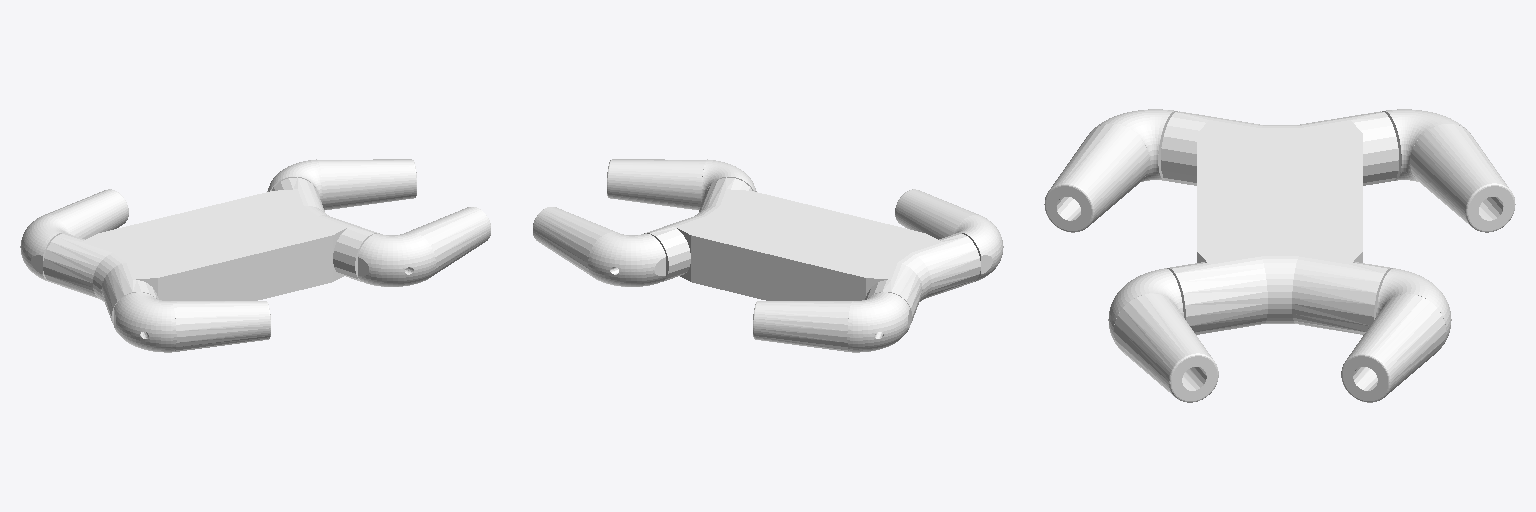
The robot description file, URDF, robot "21_degree":
<?xml version="1.0" encoding="utf-8"?>
<!-- This URDF was automatically created by SolidWorks to URDF Exporter! Originally created by [author] ([email redacted]) 
     Commit Version: 1.5.1-0-g916b5db  Build Version: 1.5.7152.31018
     For more information, please see http://wiki.ros.org/sw_urdf_exporter -->
<robot
  name="21_degree">
  <link
    name="base_link">
    <inertial>
      <origin
        xyz="2.0817E-17 4.4852E-08 -1.2476E-08"
        rpy="0 0 0" />
      <mass
        value="2.942" />
      <inertia
        ixx="0.0097283"
        ixy="1.9011E-09"
        ixz="-1.5412E-10"
        iyy="0.0458556"
        iyz="6.6388E-18"
        izz="0.0531702" />
    </inertial>
    <visual>
      <origin
        xyz="0 0 0"
        rpy="0 0 0" />
      <geometry>
        <mesh
          filename="package://21_degree/meshes/base_link.STL" />
      </geometry>
      <material
        name="">
        <color
          rgba="1 1 1 1" />
      </material>
    </visual>
    <collision>
      <origin
        xyz="0 0 0"
        rpy="0 0 0" />
      <geometry>
        <mesh
          filename="package://21_degree/meshes/base_link.STL" />
      </geometry>
    </collision>
  </link>
  <link
    name="left_front_link">
    <inertial>
      <origin
        xyz="-9.6449E-08 0.065963 -0.013251"
        rpy="0 0 0" />
      <mass
        value="0.092" />
      <inertia
        ixx="0.0002604"
        ixy="2.989E-10"
        ixz="7.8444E-10"
        iyy="0.0000638"
        iyz="-0.0000517"
        izz="0.0002464" />
    </inertial>
    <visual>
      <origin
        xyz="0 0 0"
        rpy="0 0 0" />
      <geometry>
        <mesh
          filename="package://21_degree/meshes/left_front_link.STL" />
      </geometry>
      <material
        name="">
        <color
          rgba="1 1 1 1" />
      </material>
    </visual>
    <collision>
      <origin
        xyz="0 0 0"
        rpy="0 0 0" />
      <geometry>
        <mesh
          filename="package://21_degree/meshes/left_front_link.STL" />
      </geometry>
    </collision>
  </link>
  <joint
    name="left_front_leg"
    type="continuous">
    <origin
      xyz="0.16691 0.096159 0"
      rpy="1.5708 1.5708 0" />
    <parent
      link="base_link" />
    <child
      link="left_front_link" />
    <axis
      xyz="0 0.35837 -0.93358" />
    <limit
      effort="5"
      velocity="487" />
  </joint>
  <link
    name="right_front_link">
    <inertial>
      <origin
        xyz="9.6449E-08 0.065963 0.013251"
        rpy="0 0 0" />
      <mass
        value="0.092" />
      <inertia
        ixx="0.0002604"
        ixy="-2.989E-10"
        ixz="7.8444E-10"
        iyy="0.0000638"
        iyz="0.0000517"
        izz="0.0002464" />
    </inertial>
    <visual>
      <origin
        xyz="0 0 0"
        rpy="0 0 0" />
      <geometry>
        <mesh
          filename="package://21_degree/meshes/right_front_link.STL" />
      </geometry>
      <material
        name="">
        <color
          rgba="1 1 1 1" />
      </material>
    </visual>
    <collision>
      <origin
        xyz="0 0 0"
        rpy="0 0 0" />
      <geometry>
        <mesh
          filename="package://21_degree/meshes/right_front_link.STL" />
      </geometry>
    </collision>
  </link>
  <joint
    name="right_front_leg"
    type="continuous">
    <origin
      xyz="0.16691 -0.096159 0"
      rpy="1.5708 1.5708 0" />
    <parent
      link="base_link" />
    <child
      link="right_front_link" />
    <axis
      xyz="0 0.35837 0.93358" />
    <limit
      effort="5"
      velocity="487" />
  </joint>
  <link
    name="right_back_link">
    <inertial>
      <origin
        xyz="8.5928E-08 0.056834 0.03601"
        rpy="0 0 0" />
      <mass
        value="0.092" />
      <inertia
        ixx="0.0002604"
        ixy="-4.8774E-10"
        ixz="5.9078E-10"
        iyy="0.0000526"
        iyz="-2.27E-05"
        izz="0.0002575" />
    </inertial>
    <visual>
      <origin
        xyz="0 0 0"
        rpy="0 0 0" />
      <geometry>
        <mesh
          filename="package://21_degree/meshes/right_back_link.STL" />
      </geometry>
      <material
        name="">
        <color
          rgba="1 1 1 1" />
      </material>
    </visual>
    <collision>
      <origin
        xyz="0 0 0"
        rpy="0 0 0" />
      <geometry>
        <mesh
          filename="package://21_degree/meshes/right_back_link.STL" />
      </geometry>
    </collision>
  </link>
  <joint
    name="right_back_leg"
    type="continuous">
    <origin
      xyz="-0.16691 -0.096159 0"
      rpy="1.9373 1.5708 0" />
    <parent
      link="base_link" />
    <child
      link="right_back_link" />
    <axis
      xyz="0 0 1" />
    <limit
      effort="5"
      velocity="487" />
  </joint>
  <link
    name="left_back_link">
    <inertial>
      <origin
        xyz="-8.5928E-08 0.040154 -0.053986"
        rpy="0 0 0" />
      <mass
        value="0.092" />
      <inertia
        ixx="0.0002604"
        ixy="6.6706E-10"
        ixz="3.7675E-10"
        iyy="0.0000941"
        iyz="0.0000854"
        izz="0.0002160" />
    </inertial>
    <visual>
      <origin
        xyz="0 0 0"
        rpy="0 0 0" />
      <geometry>
        <mesh
          filename="package://21_degree/meshes/left_back_link.STL" />
      </geometry>
      <material
        name="">
        <color
          rgba="1 1 1 1" />
      </material>
    </visual>
    <collision>
      <origin
        xyz="0 0 0"
        rpy="0 0 0" />
      <geometry>
        <mesh
          filename="package://21_degree/meshes/left_back_link.STL" />
      </geometry>
    </collision>
  </link>
  <joint
    name="left_back_leg"
    type="continuous">
    <origin
      xyz="-0.16691 0.096159 0"
      rpy="1.5708 1.5708 0" />
    <parent
      link="base_link" />
    <child
      link="left_back_link" />
    <axis
      xyz="0 -0.35837 -0.93358" />
    <limit
      effort="5"
      velocity="487" />
  </joint>
</robot>

--- What the picture shows (computed from the rendered views, not written in the file) ---
The picture shows the robot from 3 angles, left to right: view 1: azimuth 30°, elevation 25°; view 2: azimuth 150°, elevation 25°; view 3: azimuth 270°, elevation 25°; orthographic projection.
Robot: 21_degree — 5 links, 4 joints (4 continuous); root link base_link; default pose: all joints at 0.
Links seen in each view (by area): view 1: base_link, right_back_link, right_front_link, left_front_link, left_back_link; view 2: base_link, left_back_link, left_front_link, right_front_link, right_back_link; view 3: base_link, left_back_link, right_back_link, left_front_link, right_front_link.
Link boxes in pixels (x1,y1,x2,y2): base_link: (43, 177, 379, 324); right_back_link: (114, 292, 270, 352); right_front_link: (358, 207, 490, 286); left_front_link: (267, 159, 416, 209); left_back_link: (20, 189, 128, 281); base_link: (644, 177, 980, 324); left_back_link: (753, 292, 909, 352); left_front_link: (533, 207, 665, 286); right_front_link: (607, 159, 756, 209); right_back_link: (895, 189, 1003, 281); base_link: (1161, 111, 1398, 334); left_back_link: (1382, 109, 1515, 232); right_back_link: (1044, 109, 1177, 232); left_front_link: (1341, 268, 1451, 402); right_front_link: (1108, 268, 1218, 402).
Bounding box of the posed robot: 0.5391 × 0.4244 × 0.064 m (x, y, z).
Meshes: 5 distinct files referenced, 5 mesh visuals loaded (5 binary STL).